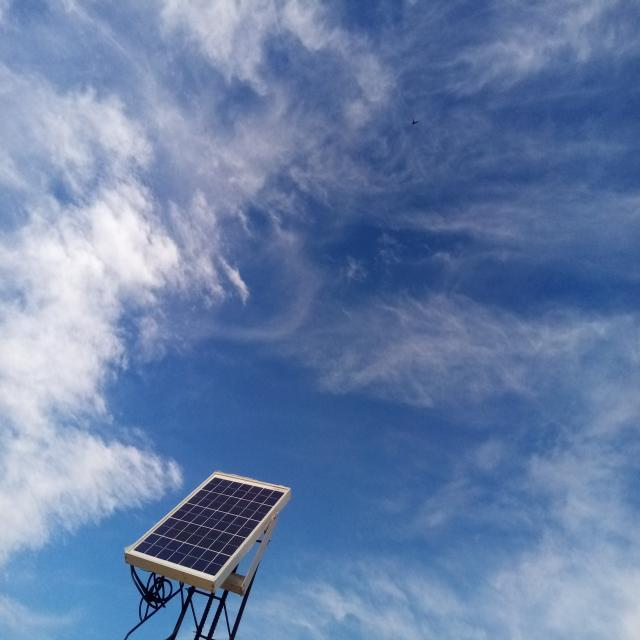no faulty: (125, 471, 290, 581)
